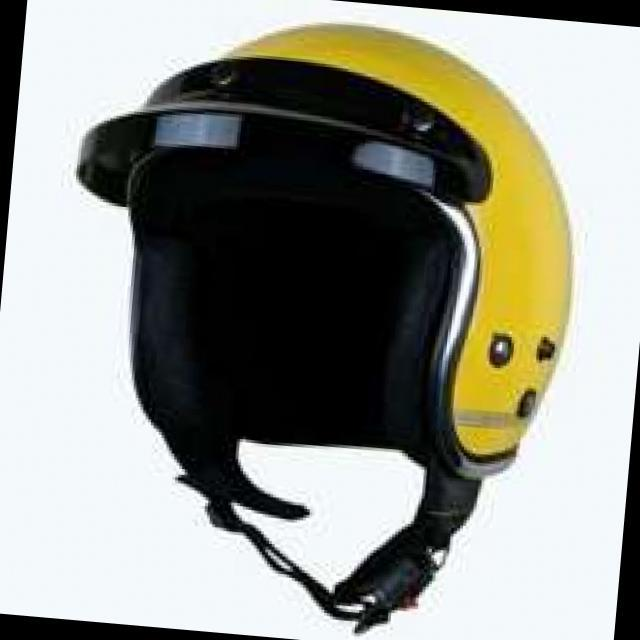Helm: (29, 0, 595, 640)
